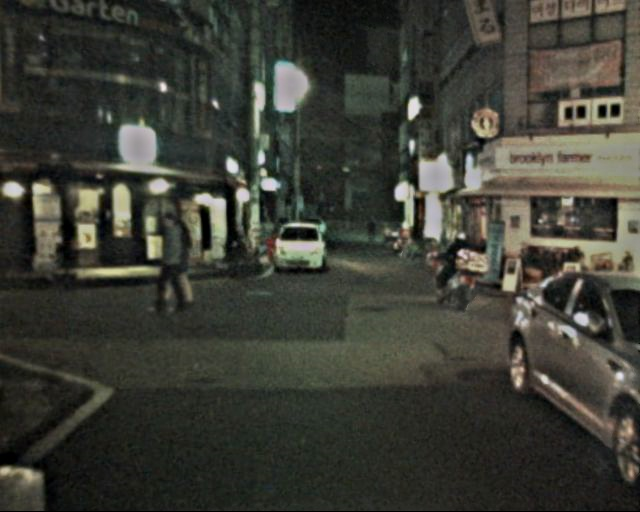person: (148, 211, 191, 316), (443, 232, 477, 317)
